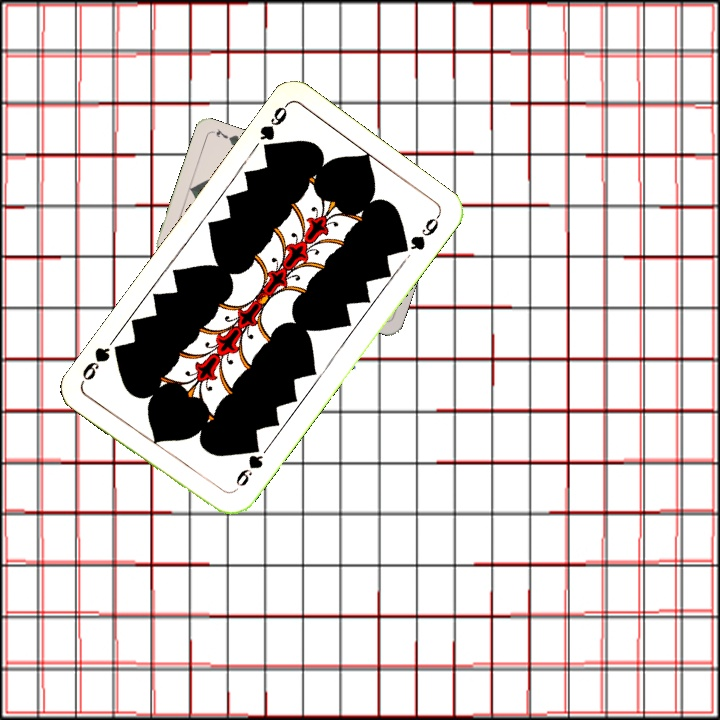G9: (227, 440, 266, 496), (255, 100, 290, 158)
